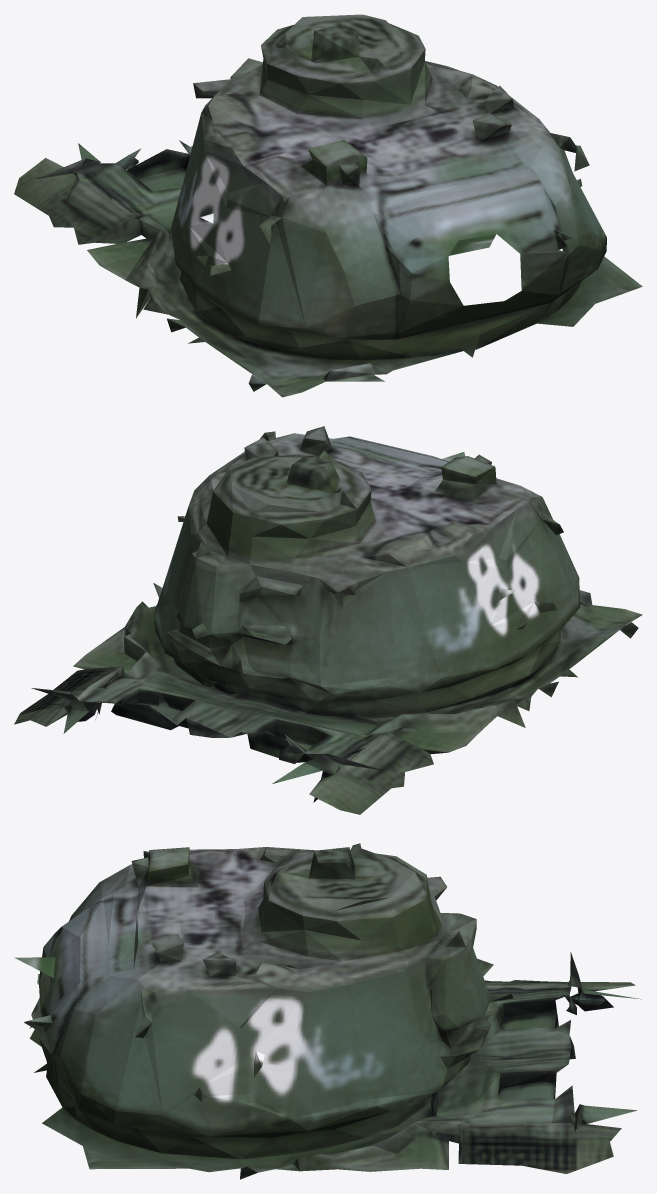
The model's file is t34_85_turret.glb.
3 views of the same model, one above another, from view 1: azimuth 30°, elevation 25°; view 2: azimuth 150°, elevation 25°; view 3: azimuth 270°, elevation 25° (orthographic). The views are drawn at different scales.
Parts seen in each view (by area): view 1: t34_85_00001_.glb; view 2: t34_85_00001_.glb; view 3: t34_85_00001_.glb.
Part boxes in pixels (x1,y1,x2,y2): t34_85_00001_.glb: (14,14,642,397); t34_85_00001_.glb: (14,426,642,814); t34_85_00001_.glb: (14,843,641,1179).
Bounding box in the file's own units: 2.6 × 1.37 × 3.3.
Materials: 1 (1 with a texture image).
